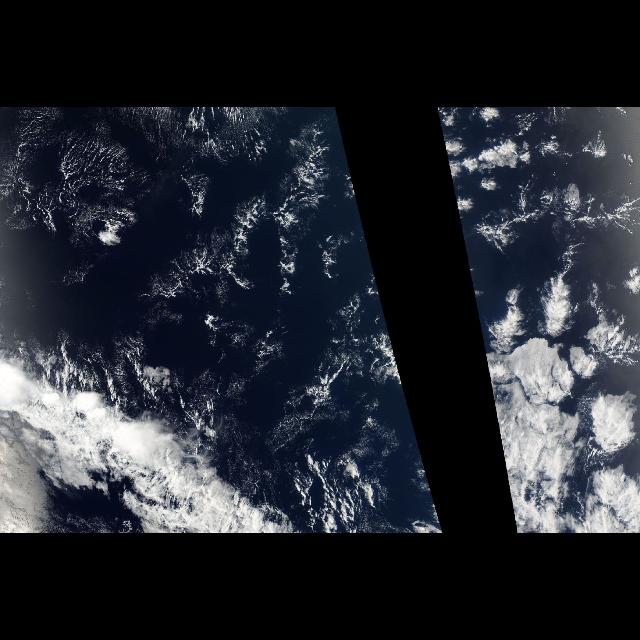Flower: (468, 256, 638, 464)
Sugar: (8, 109, 356, 323)
